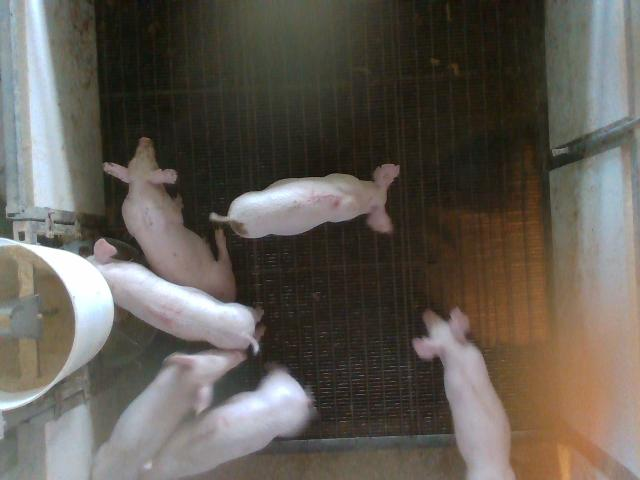pig-4: (88, 239, 261, 352)
pig-5: (210, 164, 399, 237)
